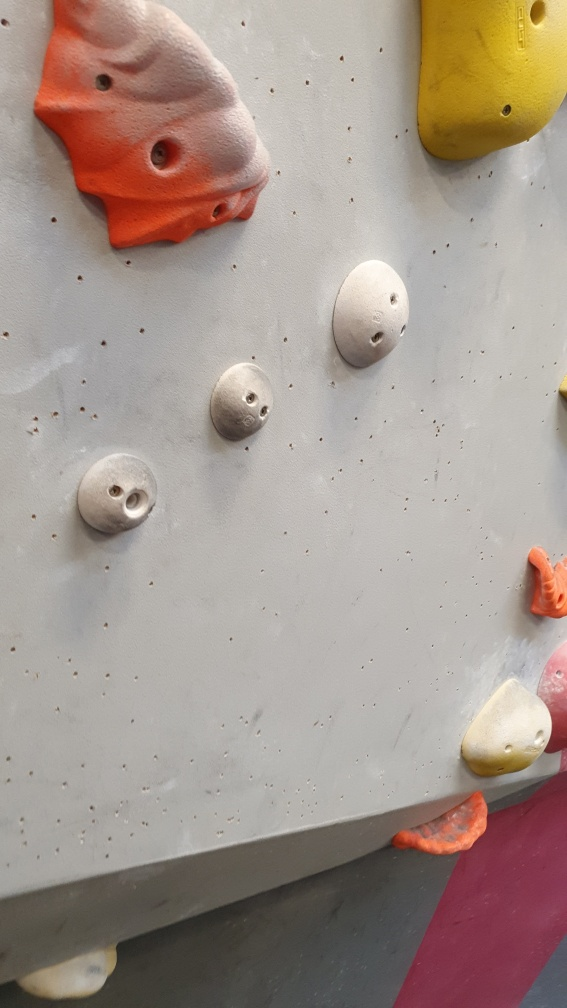Jug: (28, 1, 277, 256), (387, 789, 491, 857), (523, 541, 567, 621)
Sloper: (331, 254, 414, 372), (73, 451, 163, 540), (206, 359, 281, 445)
